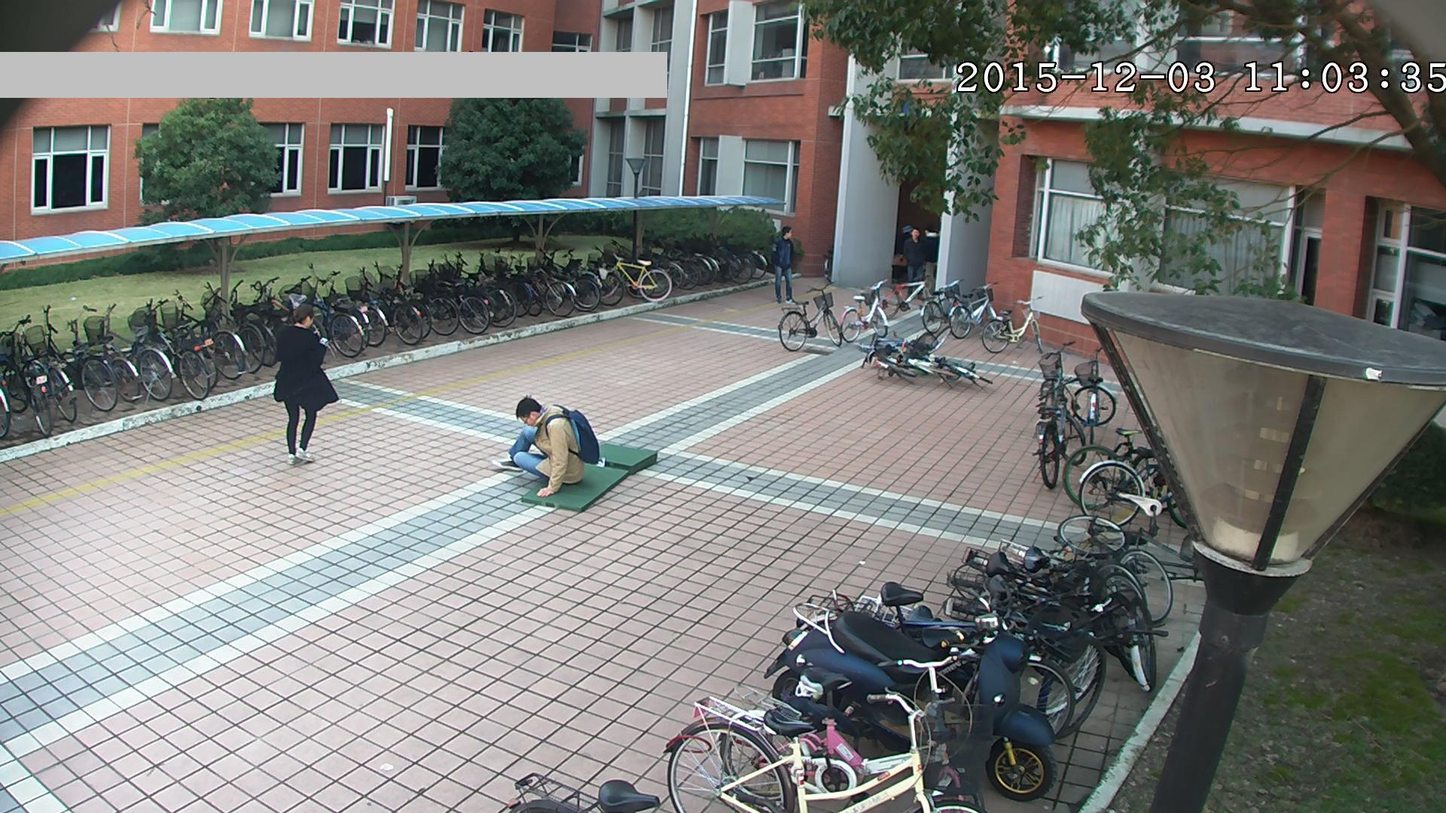person: (485, 376, 607, 488), (270, 298, 339, 474), (761, 219, 803, 307), (899, 222, 936, 279)
